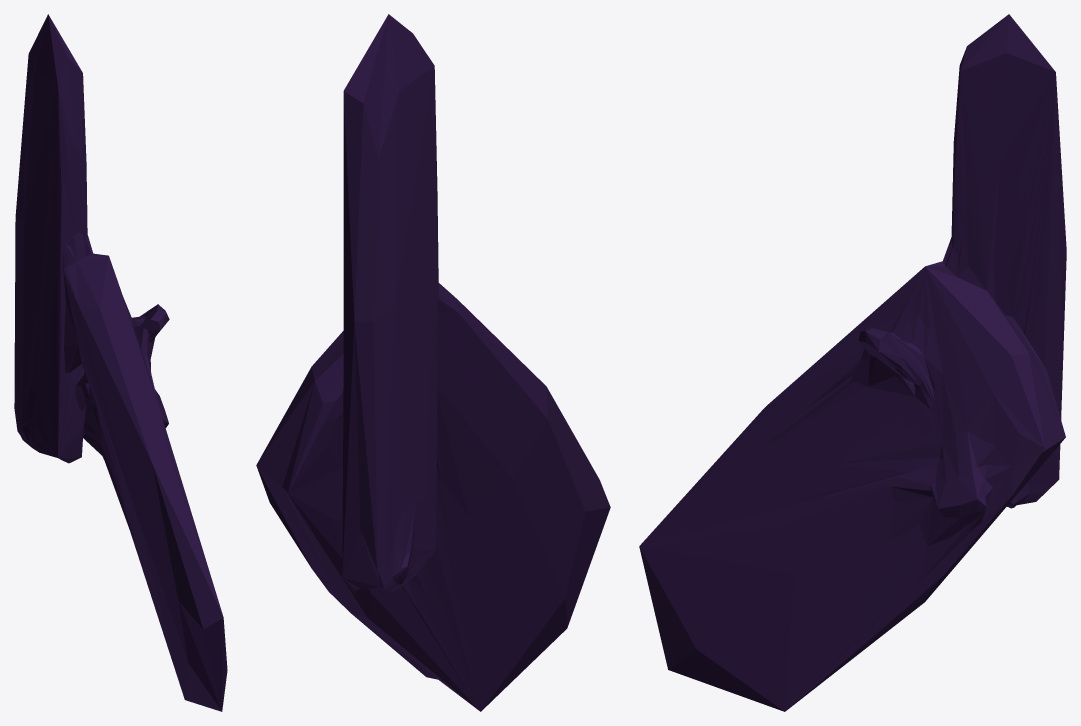
3 renders of one model, left to right at view 1: azimuth 30°, elevation 25°; view 2: azimuth 150°, elevation 25°; view 3: azimuth 270°, elevation 25°, orthographic. The views are drawn at different scales.
Parts seen in each view (by area): view 1: 536_Cube.2163; view 2: 536_Cube.2163; view 3: 536_Cube.2163.
Part boxes in pixels (x1,y1,x2,y2): 536_Cube.2163: [14, 14, 227, 711]; 536_Cube.2163: [256, 14, 610, 711]; 536_Cube.2163: [639, 14, 1066, 711].
Bounding box in the file's own units: 3.39 × 17 × 9.71.
